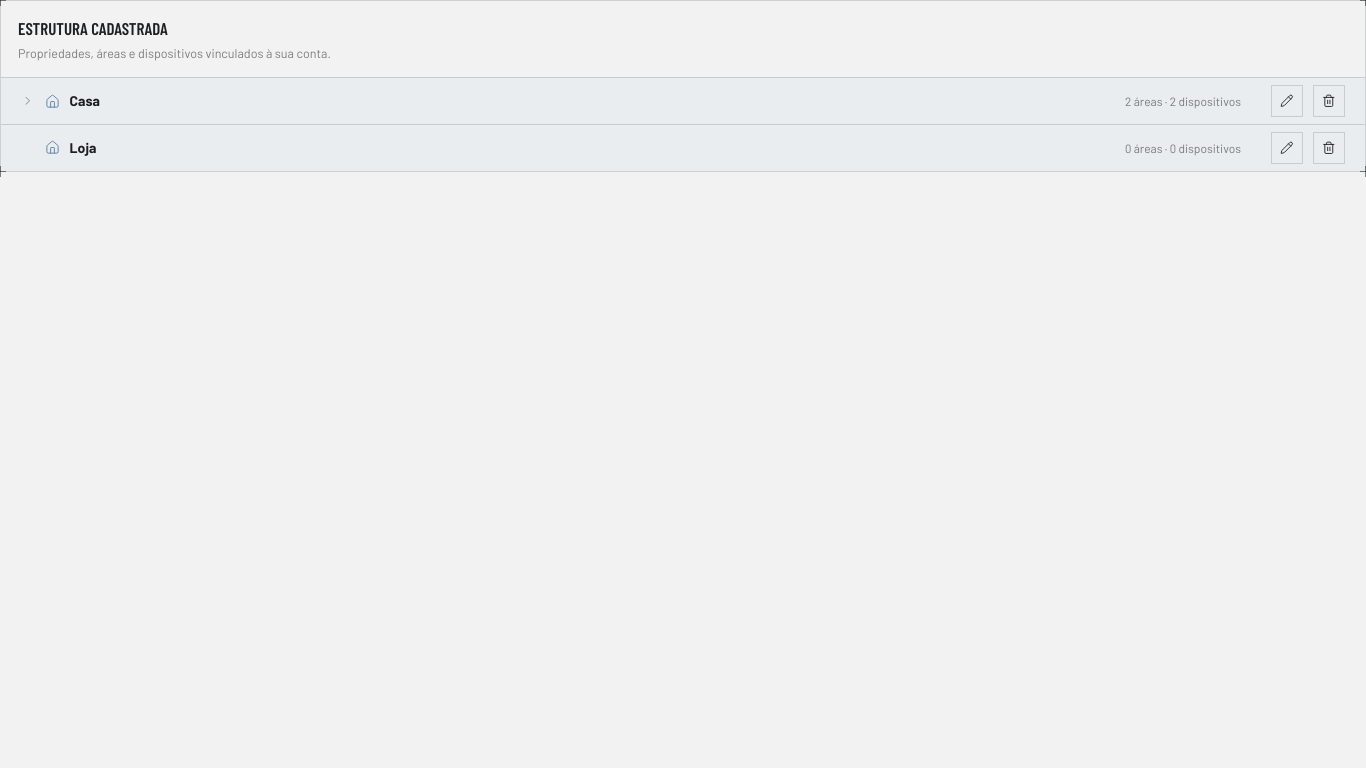
RegistrationTree — excluir › não exclui nada ao cancelar
Click the button named "Excluir propriedade Loja".
click(1329, 148)  # box [1313,132,1345,164]
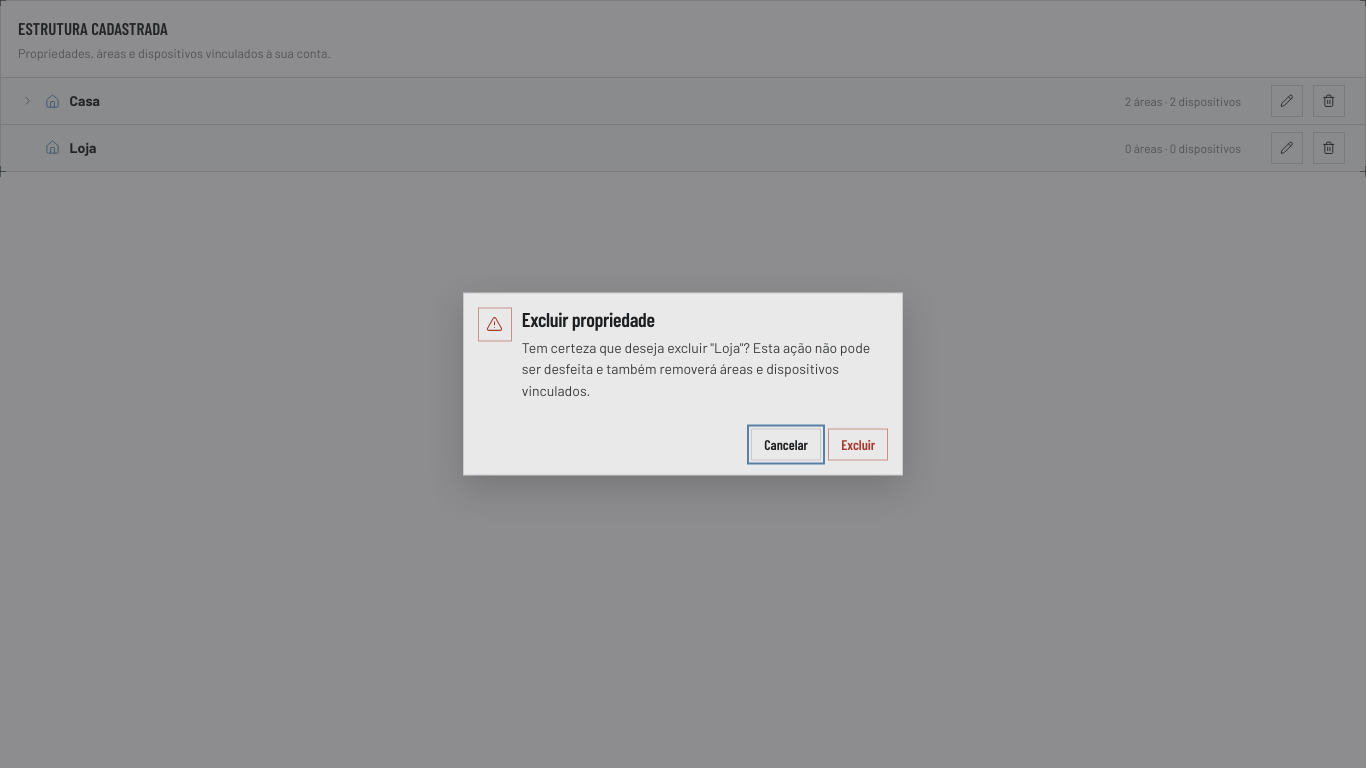
Click the button "Cancelar".
click(786, 445)  # box [751,428,821,461]
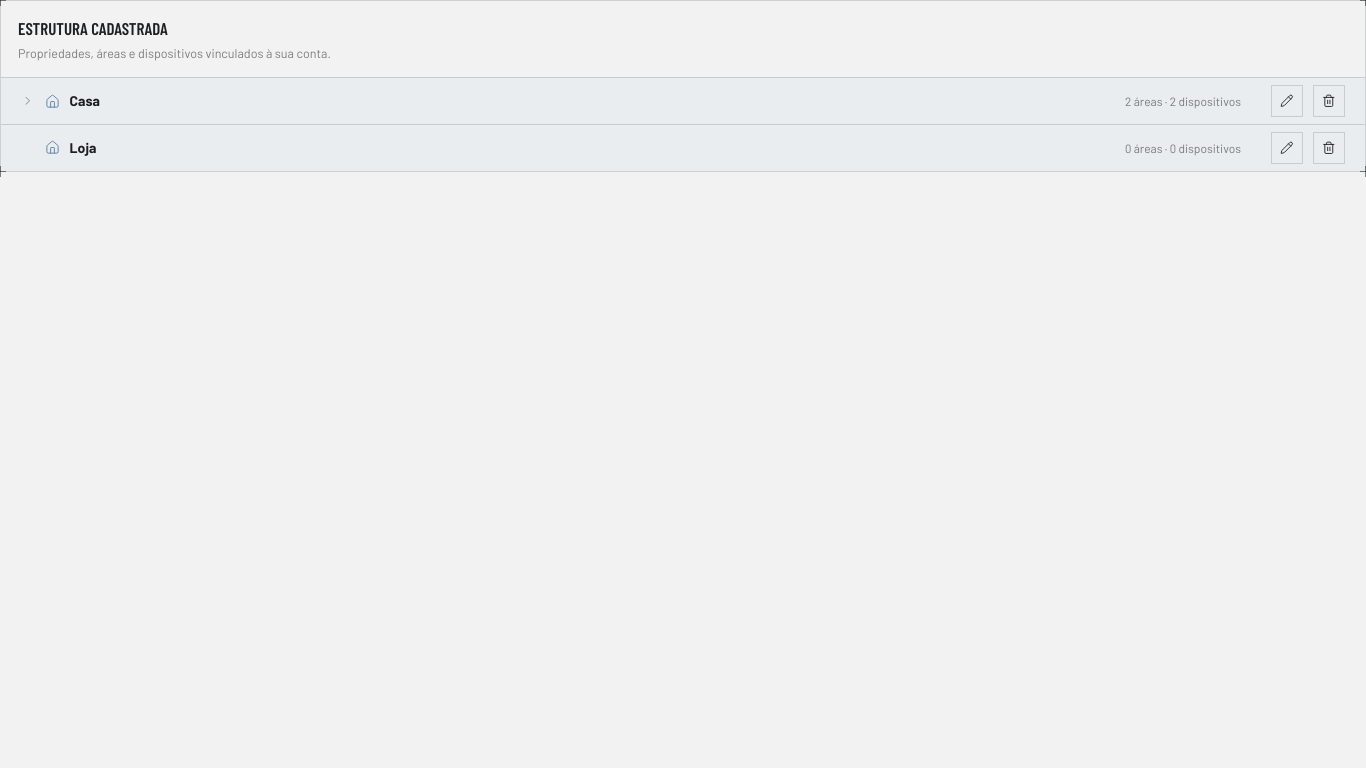
expect the dialog is gone: met
